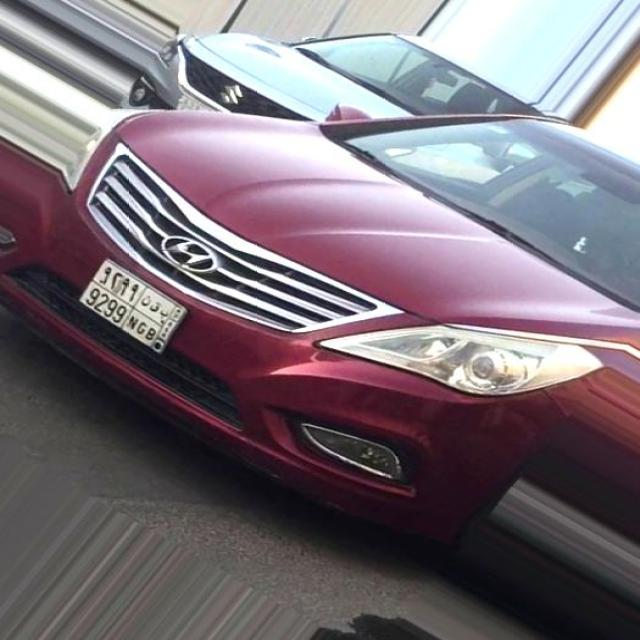Car-plate: (70, 247, 210, 372)
